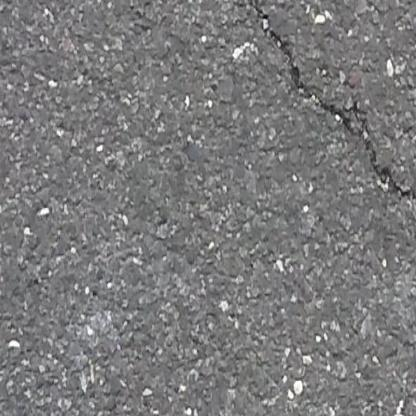Cracks: (246, 0, 353, 134), (351, 99, 416, 255)
